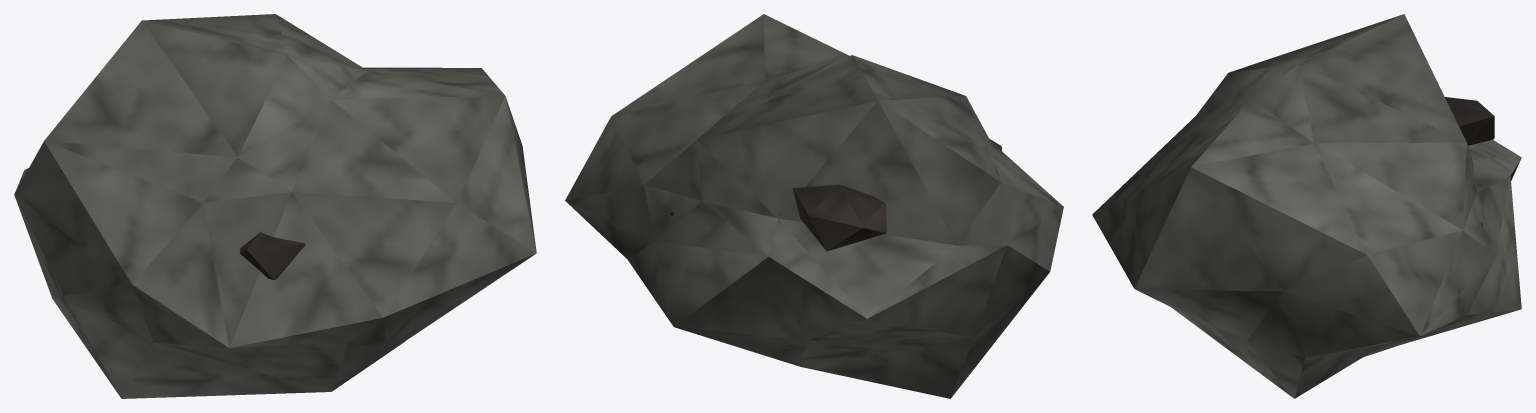
File: SM_OreDeposit_Coal.fbx
The picture shows the model from 3 angles, left to right: view 1: azimuth 30°, elevation 25°; view 2: azimuth 150°, elevation 25°; view 3: azimuth 270°, elevation 25°; orthographic projection. The views are drawn at different scales.
Visible parts, largest first — view 1: SM_OreDeposit_Coal; view 2: SM_OreDeposit_Coal; view 3: SM_OreDeposit_Coal.
Boxes of the visible parts, x1,y1,x2,y2 form: SM_OreDeposit_Coal: (14,14,536,398); SM_OreDeposit_Coal: (565,14,1063,398); SM_OreDeposit_Coal: (1092,14,1521,398).
Bounding box in the file's own units: 5.23 × 3.59 × 4.49.
1 material, 1 textured.
